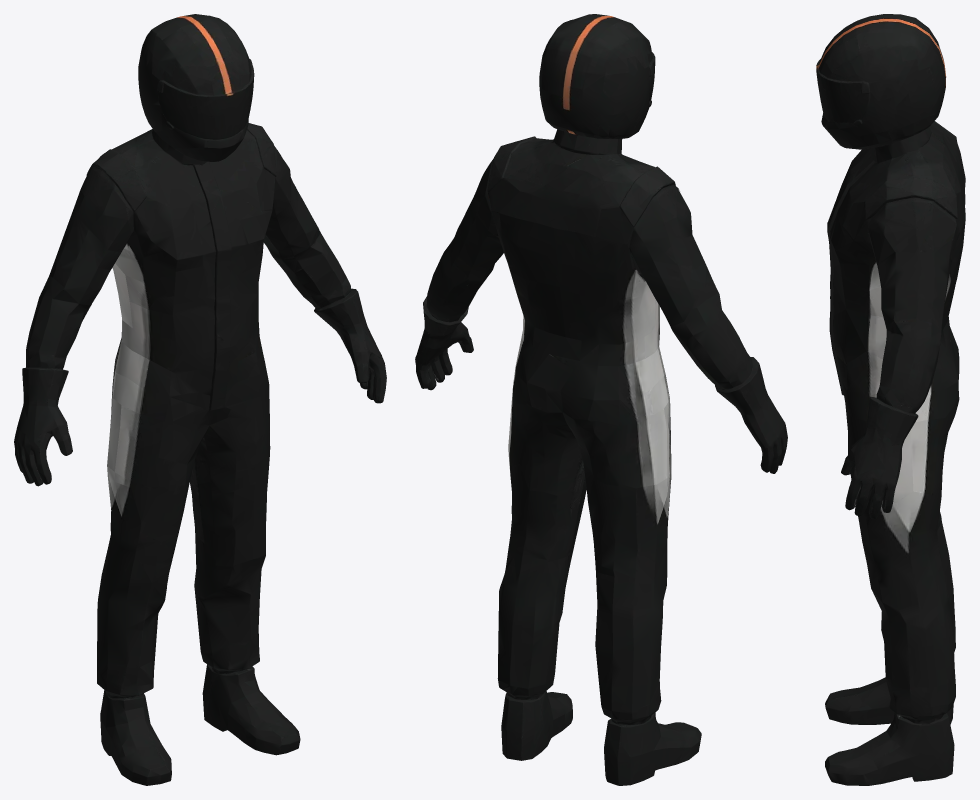
The model's file is driver.glb.
The picture shows the model from 3 angles, left to right: view 1: azimuth 30°, elevation 25°; view 2: azimuth 150°, elevation 25°; view 3: azimuth 270°, elevation 25°; orthographic projection.
Size of the model in its own units: 0.9851 by 1.9 by 0.3551.
Materials: 1 (1 with a texture image).
